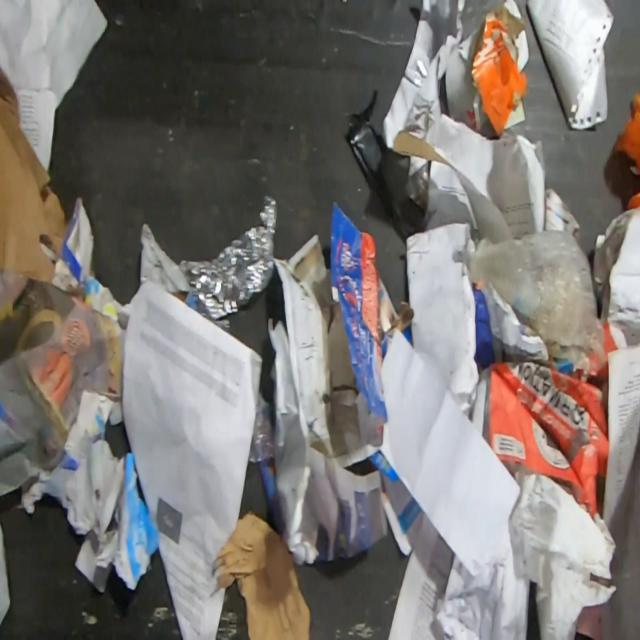cardboard: (485, 320, 631, 520), (329, 196, 413, 428), (0, 62, 68, 284), (213, 511, 310, 639), (471, 4, 530, 138), (60, 197, 97, 287), (473, 286, 497, 372), (616, 91, 640, 177), (393, 131, 451, 166), (626, 193, 640, 211)
metal: (179, 193, 278, 324)
rigid_plastic: (345, 84, 428, 240)
soft_plastic: (461, 228, 603, 359)
